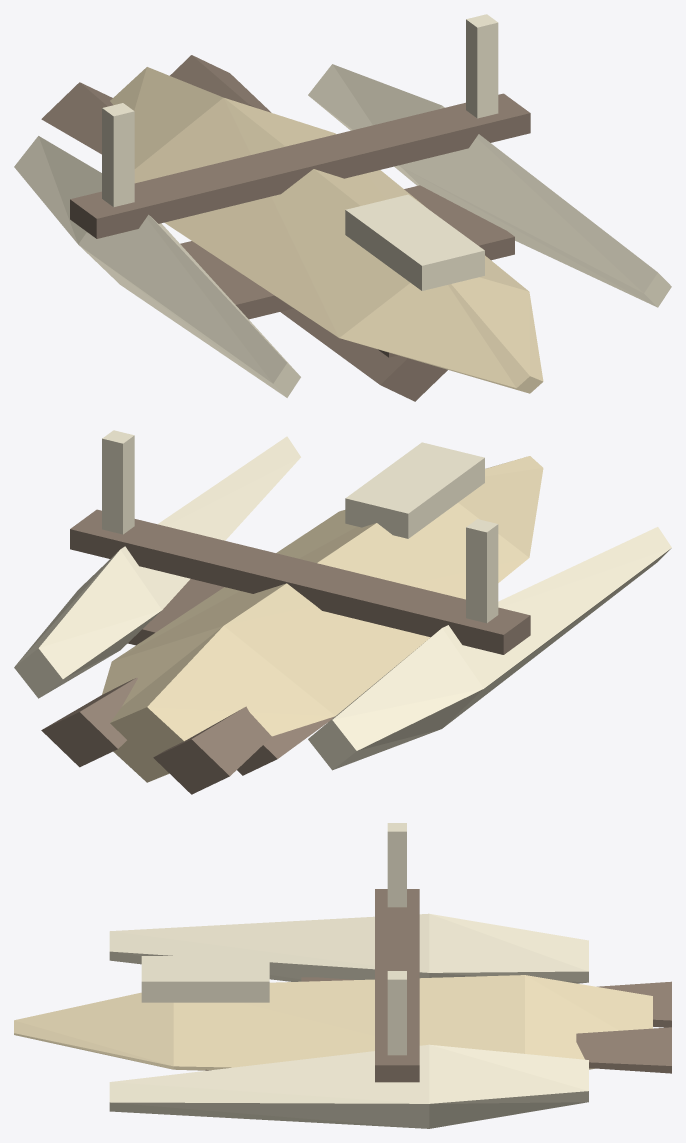
The picture shows the model from 3 angles, top to bottom: view 1: azimuth 30°, elevation 25°; view 2: azimuth 150°, elevation 25°; view 3: azimuth 270°, elevation 25°; orthographic projection. The views are drawn at different scales.
Bounding box in the file's own units: 2.88 × 1.6 × 4.53.
